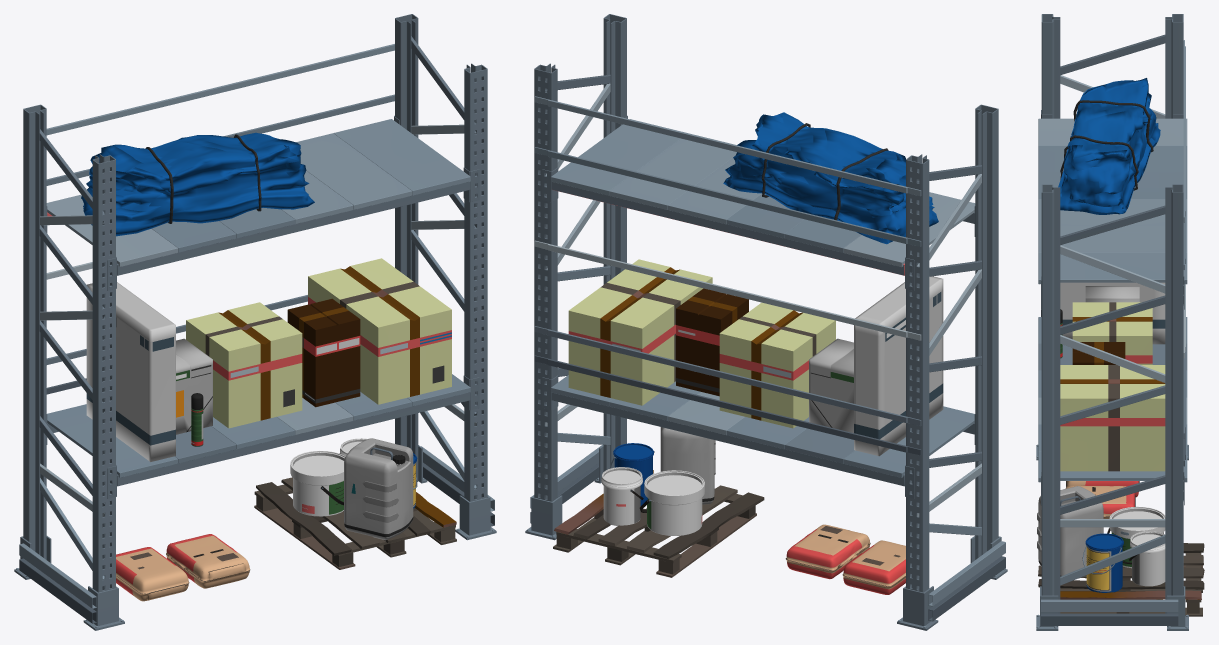
The model's file is SM_Aisle_White_A.fbx.
The picture shows the model from 3 angles, left to right: view 1: azimuth 30°, elevation 25°; view 2: azimuth 150°, elevation 25°; view 3: azimuth 270°, elevation 25°; orthographic projection. The views are drawn at different scales.
Parts seen in each view (by area): view 1: SM_Aisle_White_A; view 2: SM_Aisle_White_A; view 3: SM_Aisle_White_A.
Boxes of the visible parts, <box> form: SM_Aisle_White_A: <box>14,14,496,630</box>; SM_Aisle_White_A: <box>525,14,1007,630</box>; SM_Aisle_White_A: <box>1036,14,1204,630</box>.
Bounding box in the file's own units: 336 × 372 × 129.
